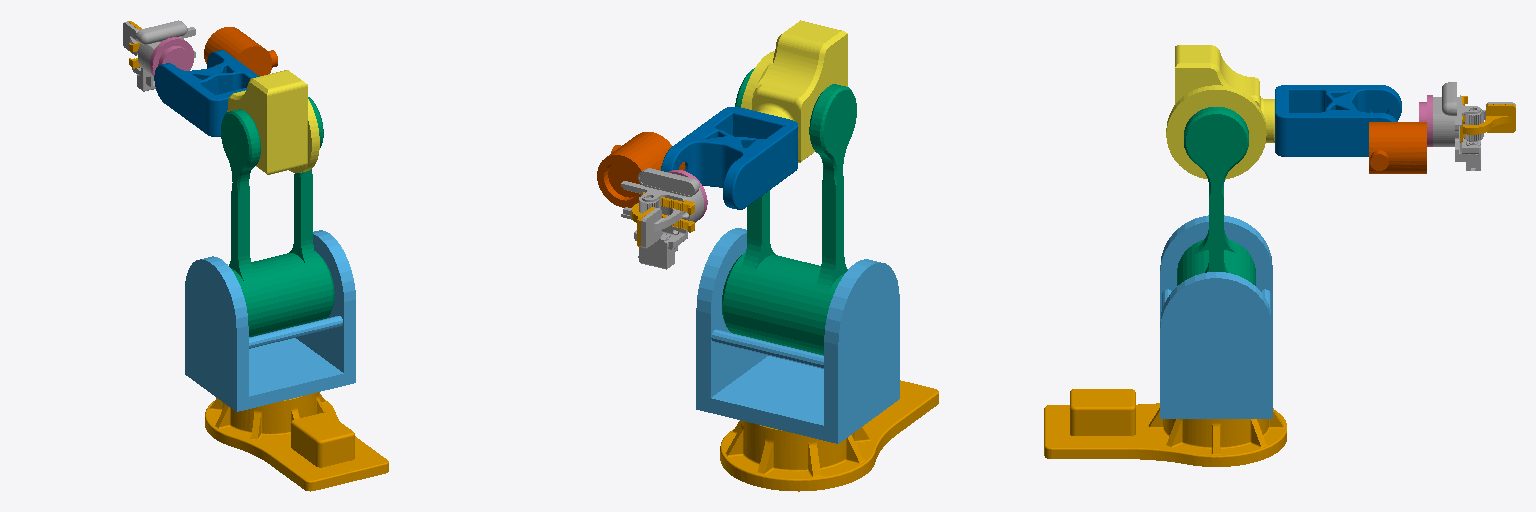
robot.urdf — manipulator_urdf:
<?xml version="1.0" encoding="utf-8"?>
<!-- This URDF was automatically created by SolidWorks to URDF Exporter! Originally created by [author] ([email redacted]) 
     Commit Version: 1.6.0-4-g7f85cfe  Build Version: 1.6.7995.38578
     For more information, please see http://wiki.ros.org/sw_urdf_exporter -->
<robot
  name="manipulator_urdf">
  <link
    name="base_link">
    <inertial>
      <origin
        xyz="1.8248E-09 -0.045632 0.027978"
        rpy="0 0 0" />
      <mass
        value="1.9374" />
      <inertia
        ixx="0.013429"
        ixy="-1.0606E-10"
        ixz="1.0271E-10"
        iyy="0.0037342"
        iyz="-0.00072089"
        izz="0.015485" />
    </inertial>
    <visual>
      <origin
        xyz="0 0 0"
        rpy="0 0 0" />
      <geometry>
        <mesh
          filename="package://manipulator_urdf/meshes/base_link.STL" />
      </geometry>
      <material
        name="">
        <color
          rgba="0.34, 0.16, 0.52, 1" />
      </material>
    </visual>
    <collision>
      <origin
        xyz="0 0 0"
        rpy="0 0 0" />
      <geometry>
        <mesh
          filename="package://manipulator_urdf/meshes/base_link.STL" />
      </geometry>
    </collision>
  </link>
  <link
    name="link1">
    <inertial>
      <origin
        xyz="4.1633E-17 2.7756E-17 0.06944"
        rpy="0 0 0" />
      <mass
        value="1.7255" />
      <inertia
        ixx="0.0097031"
        ixy="1.2865E-18"
        ixz="-7.7501E-18"
        iyy="0.0169"
        iyz="9.5678E-20"
        izz="0.013798" />
    </inertial>
    <visual>
      <origin
        xyz="0 0 0"
        rpy="0 0 0" />
      <geometry>
        <mesh
          filename="package://manipulator_urdf/meshes/link1.STL" />
      </geometry>
      <material
        name="">
        <color
          rgba="0.34, 0.16, 0.52, 1" />
      </material>
    </visual>
    <collision>
      <origin
        xyz="0 0 0"
        rpy="0 0 0" />
      <geometry>
        <mesh
          filename="package://manipulator_urdf/meshes/link1.STL" />
      </geometry>
    </collision>
  </link>
  <joint
    name="joint1"
    type="revolute">
    <origin
      xyz="0 0 0.073"
      rpy="0 0 0" />
    <parent
      link="base_link" />
    <child
      link="link1" />
    <axis
      xyz="0 0 -1" />
    <limit
      lower="-1.5708"
      upper="1.5708"
      effort="100"
      velocity="100" />
  </joint>
  <link
    name="link2">
    <inertial>
      <origin
        xyz="-0.089403 5.5511E-17 0.03982"
        rpy="0 0 0" />
      <mass
        value="1.8234" />
      <inertia
        ixx="0.016113"
        ixy="1.1297E-18"
        ixz="-0.00018171"
        iyy="0.019305"
        iyz="1.0759E-19"
        izz="0.0054388" />
    </inertial>
    <visual>
      <origin
        xyz="0 0 0"
        rpy="0 0 0" />
      <geometry>
        <mesh
          filename="package://manipulator_urdf/meshes/link2.STL" />
      </geometry>
      <material
        name="">
        <color
          rgba="1, 0.75, 0, 1" />
      </material>
    </visual>
    <collision>
      <origin
        xyz="0 0 0"
        rpy="0 0 0" />
      <geometry>
        <mesh
          filename="package://manipulator_urdf/meshes/link2.STL" />
      </geometry>
    </collision>
  </link>
  <joint
    name="joint2"
    type="revolute">
    <origin
      xyz="0.09 0 0.1335"
      rpy="0 0 0" />
    <parent
      link="link1" />
    <child
      link="link2" />
    <axis
      xyz="-1 0 0" />
    <limit
      lower="-1.0472"
      upper="1.0472"
      effort="100"
      velocity="100" />
  </joint>
  <link
    name="link3">
    <inertial>
      <origin
        xyz="-0.052278 -0.0011719 0.016058"
        rpy="0 0 0" />
      <mass
        value="1.2124" />
      <inertia
        ixx="0.0029349"
        ixy="-1.8848E-05"
        ixz="0.00013574"
        iyy="0.0023287"
        iyz="0.00032218"
        izz="0.0020937" />
    </inertial>
    <visual>
      <origin
        xyz="0 0 0"
        rpy="0 0 0" />
      <geometry>
        <mesh
          filename="package://manipulator_urdf/meshes/link3.STL" />
      </geometry>
      <material
        name="">
        <color
          rgba="0.34, 0.16, 0.52, 1" />
      </material>
    </visual>
    <collision>
      <origin
        xyz="0 0 0"
        rpy="0 0 0" />
      <geometry>
        <mesh
          filename="package://manipulator_urdf/meshes/link3.STL" />
      </geometry>
    </collision>
  </link>
  <joint
    name="joint3"
    type="revolute">
    <origin
      xyz="-0.0344 0 0.26"
      rpy="0 0 0" />
    <parent
      link="link2" />
    <child
      link="link3" />
    <axis
      xyz="-1 0 0" />
    <limit
      lower="-0.7854"
      upper="0.7854"
      effort="100"
      velocity="100" />
  </joint>
  <link
    name="link4">
    <inertial>
      <origin
        xyz="1.5713E-08 0.079616 -2.0778E-08"
        rpy="0 0 0" />
      <mass
        value="0.53923" />
      <inertia
        ixx="0.0013365"
        ixy="1.9989E-10"
        ixz="-9.175E-11"
        iyy="0.00085545"
        iyz="-3.3473E-10"
        izz="0.0018778" />
    </inertial>
    <visual>
      <origin
        xyz="0 0 0"
        rpy="0 0 0" />
      <geometry>
        <mesh
          filename="package://manipulator_urdf/meshes/link4.STL" />
      </geometry>
      <material
        name="">
        <color
          rgba="1, 0.75, 0, 1" />
      </material>
    </visual>
    <collision>
      <origin
        xyz="0 0 0"
        rpy="0 0 0" />
      <geometry>
        <mesh
          filename="package://manipulator_urdf/meshes/link4.STL" />
      </geometry>
    </collision>
  </link>
  <joint
    name="joint4"
    type="revolute">
    <origin
      xyz="-0.0556 0.068 0"
      rpy="0 0 0" />
    <parent
      link="link3" />
    <child
      link="link4" />
    <axis
      xyz="0 1 0" />
    <limit
      lower="-2.3562"
      upper="2.3562"
      effort="100"
      velocity="100" />
  </joint>
  <link
    name="link5">
    <inertial>
      <origin
        xyz="-0.046 0.021634 5.3757E-08"
        rpy="0 0 0" />
      <mass
        value="0.29377" />
      <inertia
        ixx="0.00022071"
        ixy="2.9134E-10"
        ixz="-5.6267E-10"
        iyy="0.00019733"
        iyz="2.3563E-10"
        izz="0.00023915" />
    </inertial>
    <visual>
      <origin
        xyz="0 0 0"
        rpy="0 0 0" />
      <geometry>
        <mesh
          filename="package://manipulator_urdf/meshes/link5.STL" />
      </geometry>
      <material
        name="">
        <color
          rgba="0.34, 0.16, 0.52, 1" />
      </material>
    </visual>
    <collision>
      <origin
        xyz="0 0 0"
        rpy="0 0 0" />
      <geometry>
        <mesh
          filename="package://manipulator_urdf/meshes/link5.STL" />
      </geometry>
    </collision>
  </link>
  <joint
    name="joint5"
    type="revolute">
    <origin
      xyz="0.046 0.15 0"
      rpy="0 0 0" />
    <parent
      link="link4" />
    <child
      link="link5" />
    <axis
      xyz="-1 0 0" />
    <limit
      lower="-1.5708"
      upper="1.5708"
      effort="100"
      velocity="100" />
  </joint>
  <link
    name="link6">
    <inertial>
      <origin
        xyz="0 0.010463 -2.7463E-06"
        rpy="0 0 0" />
      <mass
        value="0.051193" />
      <inertia
        ixx="1.4027E-05"
        ixy="9.6299E-23"
        ixz="9.6313E-23"
        iyy="2.5458E-05"
        iyz="9.8939E-10"
        izz="1.4057E-05" />
    </inertial>
    <visual>
      <origin
        xyz="0 0 0"
        rpy="0 0 0" />
      <geometry>
        <mesh
          filename="package://manipulator_urdf/meshes/link6.STL" />
      </geometry>
      <material
        name="">
        <color
          rgba="1, 0.75, 0, 1" />
      </material>
    </visual>
    <collision>
      <origin
        xyz="0 0 0"
        rpy="0 0 0" />
      <geometry>
        <mesh
          filename="package://manipulator_urdf/meshes/link6.STL" />
      </geometry>
    </collision>
  </link>
  <joint
    name="joint6"
    type="revolute">
    <origin
      xyz="-0.046 0.0534 0"
      rpy="0 0 0" />
    <parent
      link="link5" />
    <child
      link="link6" />
    <axis
      xyz="0 1 0" />
    <limit
      lower="-3.1415"
      upper="3.1415"
      effort="100"
      velocity="100" />
  </joint>
  <link
    name="gripper_base">
    <inertial>
      <origin
        xyz="0.01099 -0.057049 -0.0063013"
        rpy="0 0 0" />
      <mass
        value="0.20313" />
      <inertia
        ixx="7.6508E-05"
        ixy="8.2818E-06"
        ixz="-1.2029E-07"
        iyy="0.00011222"
        iyz="-3.7369E-06"
        izz="0.00010143" />
    </inertial>
    <visual>
      <origin
        xyz="0 0 0"
        rpy="0 0 0" />
      <geometry>
        <mesh
          filename="package://manipulator_urdf/meshes/gripper_base.STL" />
      </geometry>
      <material
        name="">
        <color
          rgba="1, 0.75, 0, 1" />
      </material>
    </visual>
    <collision>
      <origin
        xyz="0 0 0"
        rpy="0 0 0" />
      <geometry>
        <mesh
          filename="package://manipulator_urdf/meshes/gripper_base.STL" />
      </geometry>
    </collision>
  </link>
  <joint
    name="joint_gripper_base"
    type="fixed">
    <origin
      xyz="-0.01 0.1085 0"
      rpy="0 0 0" />
    <parent
      link="link6" />
    <child
      link="gripper_base" />
    <axis
      xyz="0 0 0" />
  </joint>
  <link
    name="finger">
    <inertial>
      <origin
        xyz="0.0086661 -0.026558 -1.2302E-08"
        rpy="0 0 0" />
      <mass
        value="0.02578" />
      <inertia
        ixx="1.8442E-05"
        ixy="5.3886E-07"
        ixz="3.7434E-12"
        iyy="1.1248E-05"
        iyz="-5.5838E-12"
        izz="2.3903E-05" />
    </inertial>
    <visual>
      <origin
        xyz="0 0 0"
        rpy="0 0 0" />
      <geometry>
        <mesh
          filename="package://manipulator_urdf/meshes/finger.STL" />
      </geometry>
      <material
        name="">
        <color
          rgba="0.34, 0.16, 0.52, 1" />
      </material>
    </visual>
    <collision>
      <origin
        xyz="0 0 0"
        rpy="0 0 0" />
      <geometry>
        <mesh
          filename="package://manipulator_urdf/meshes/finger.STL" />
      </geometry>
    </collision>
  </link>
  <joint
    name="joint_finger"
    type="prismatic">
    <origin
      xyz="-0.01 0.1085 0"
      rpy="0 0 0" />
    <parent
      link="link6" />
    <child
      link="finger" />
    <axis
      xyz="1 0 0" />
    <limit
      lower="0"
      upper="0.037"
      effort="100"
      velocity="100" />
  </joint>
</robot>

--- Facts derived from the render (not from the file) ---
The picture shows the robot from 3 angles, left to right: view 1: azimuth 30°, elevation 25°; view 2: azimuth 150°, elevation 25°; view 3: azimuth 270°, elevation 25°; orthographic projection.
Model manipulator_urdf with 9 links and 8 joints (6 revolute, 1 prismatic, 1 fixed), rooted at base_link, posed every joint at zero.
Visible links, largest first — view 1: link1, link2, base_link, link3, link4, gripper_base, link5, link6; view 2: link1, link2, base_link, link4, link3, gripper_base, link5, finger; view 3: link1, base_link, link4, link3, link2, link5, gripper_base, finger.
Link boxes in pixels (left/top/right/bottom): link1: left=185, top=230, right=355, bottom=411; link2: left=221, top=97, right=334, bottom=336; base_link: left=205, top=392, right=388, bottom=491; link3: left=227, top=70, right=319, bottom=174; link4: left=154, top=50, right=259, bottom=136; gripper_base: left=123, top=20, right=195, bottom=91; link5: left=204, top=27, right=277, bottom=75; link6: left=150, top=37, right=193, bottom=75; link1: left=696, top=228, right=899, bottom=443; link2: left=722, top=68, right=856, bottom=355; base_link: left=720, top=380, right=938, bottom=491; link4: left=661, top=107, right=797, bottom=209; link3: left=741, top=20, right=847, bottom=162; gripper_base: left=621, top=168, right=703, bottom=269; link5: left=597, top=132, right=685, bottom=207; finger: left=631, top=192, right=694, bottom=246; link1: left=1160, top=215, right=1272, bottom=418; base_link: left=1044, top=389, right=1286, bottom=466; link4: left=1275, top=85, right=1401, bottom=156; link3: left=1166, top=45, right=1274, bottom=179; link2: left=1177, top=107, right=1255, bottom=285; link5: left=1369, top=122, right=1426, bottom=173; gripper_base: left=1433, top=82, right=1515, bottom=170; finger: left=1460, top=95, right=1515, bottom=142.
Size in the robot's own frame: 0.2319 by 0.6299 by 0.5635 metres.
9 mesh visuals loaded from 9 distinct referenced files (9 binary STL).